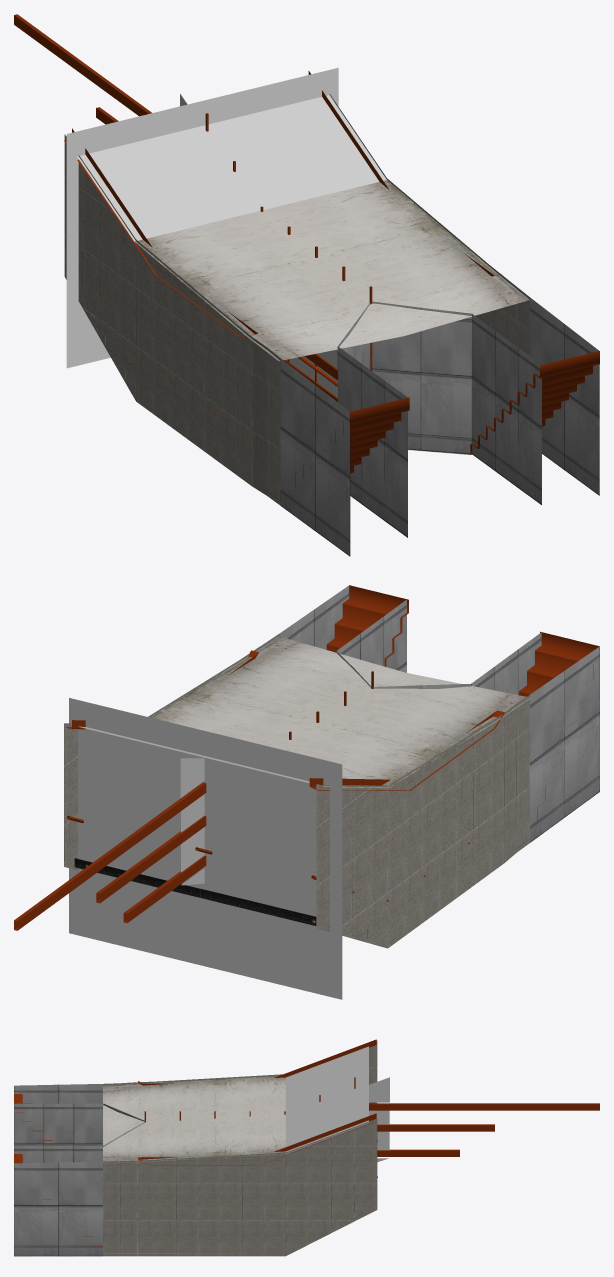
File: vestuarios_escalera_estadio.FBX
3 views of the same model, one above another, from view 1: azimuth 30°, elevation 25°; view 2: azimuth 150°, elevation 25°; view 3: azimuth 270°, elevation 25° (orthographic). The views are drawn at different scales.
Visible parts, largest first — view 1: stairs, Plane001; view 2: stairs, Plane001; view 3: stairs.
Boxes of the visible parts, <box> form: stairs: <box>14,14,599,556</box>; Plane001: <box>66,68,338,368</box>; stairs: <box>14,585,599,948</box>; Plane001: <box>69,698,342,999</box>; stairs: <box>14,1039,599,1256</box>.
Size of the model in its own units: 610 by 508 by 1779.
